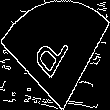P_SW: (33, 24, 77, 86)
